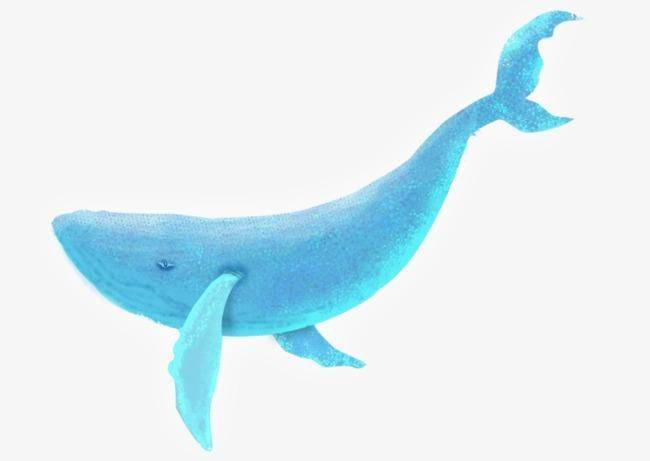fish: (51, 7, 585, 457)
